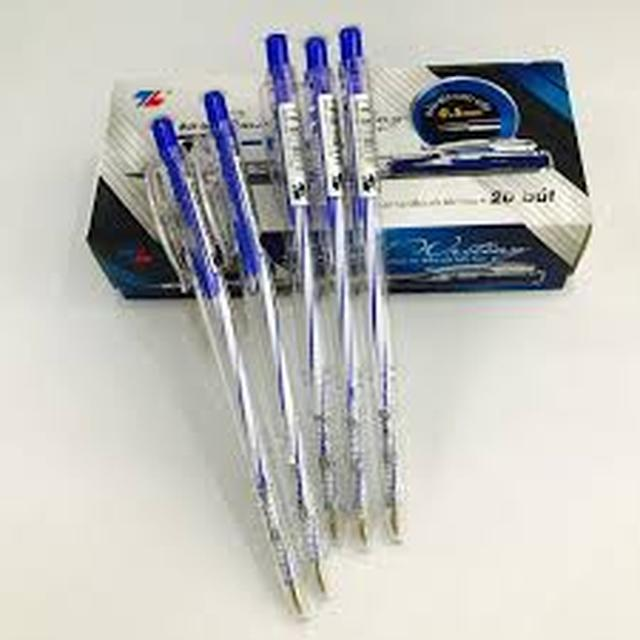pen: (164, 11, 408, 575), (149, 40, 317, 585), (156, 117, 304, 628), (277, 4, 376, 588), (338, 24, 420, 544)
